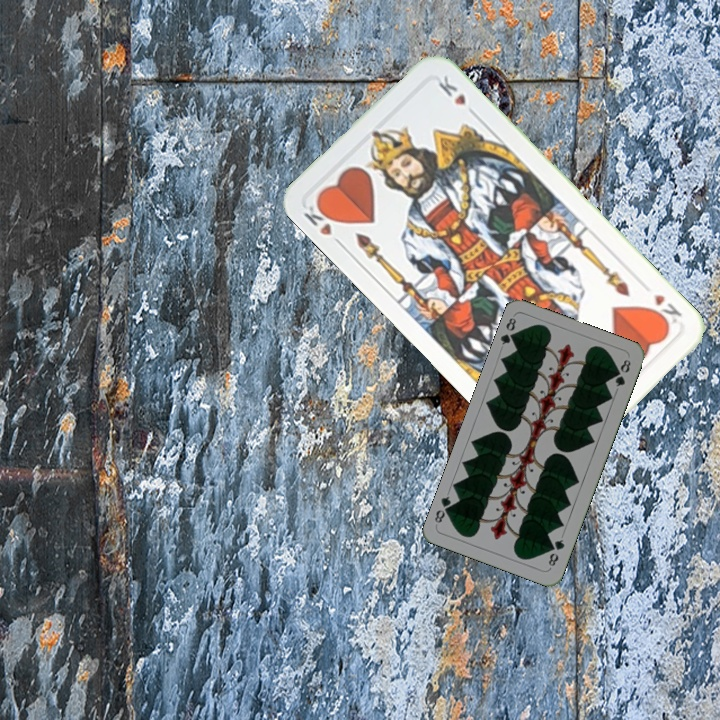G8: (496, 313, 521, 347), (544, 535, 567, 571)
HK: (299, 196, 346, 250), (645, 289, 685, 330)
